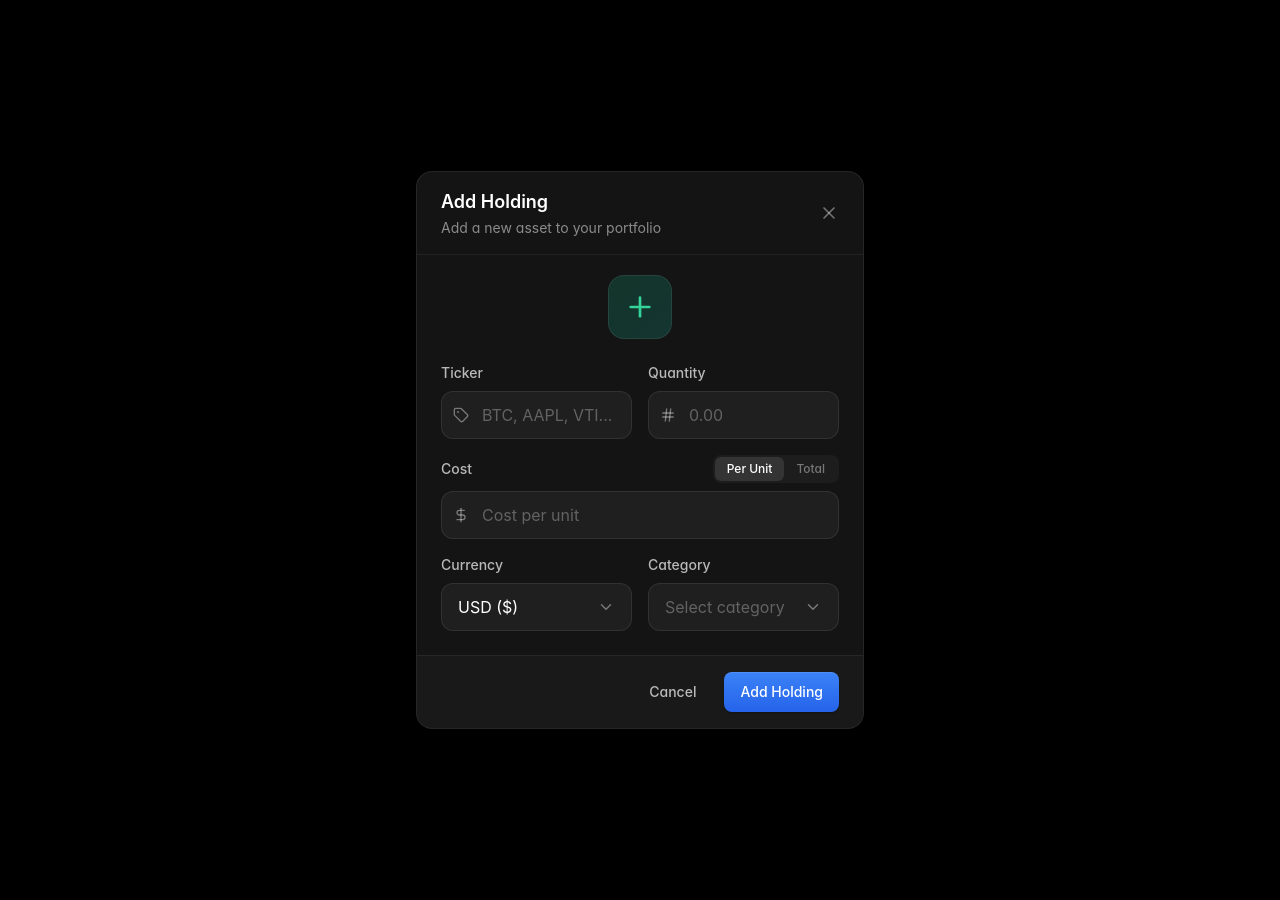
Test: Phase 4: Holdings Management UI › AddHoldingModal Component › should show cost preview when switching cost type
This screenshot has width=1280, height=900.
// Fill quantity and cost
Step 1. Type "10" into the number field labelled "Quantity" → x=744, y=415, box 648,391 -> 839,439
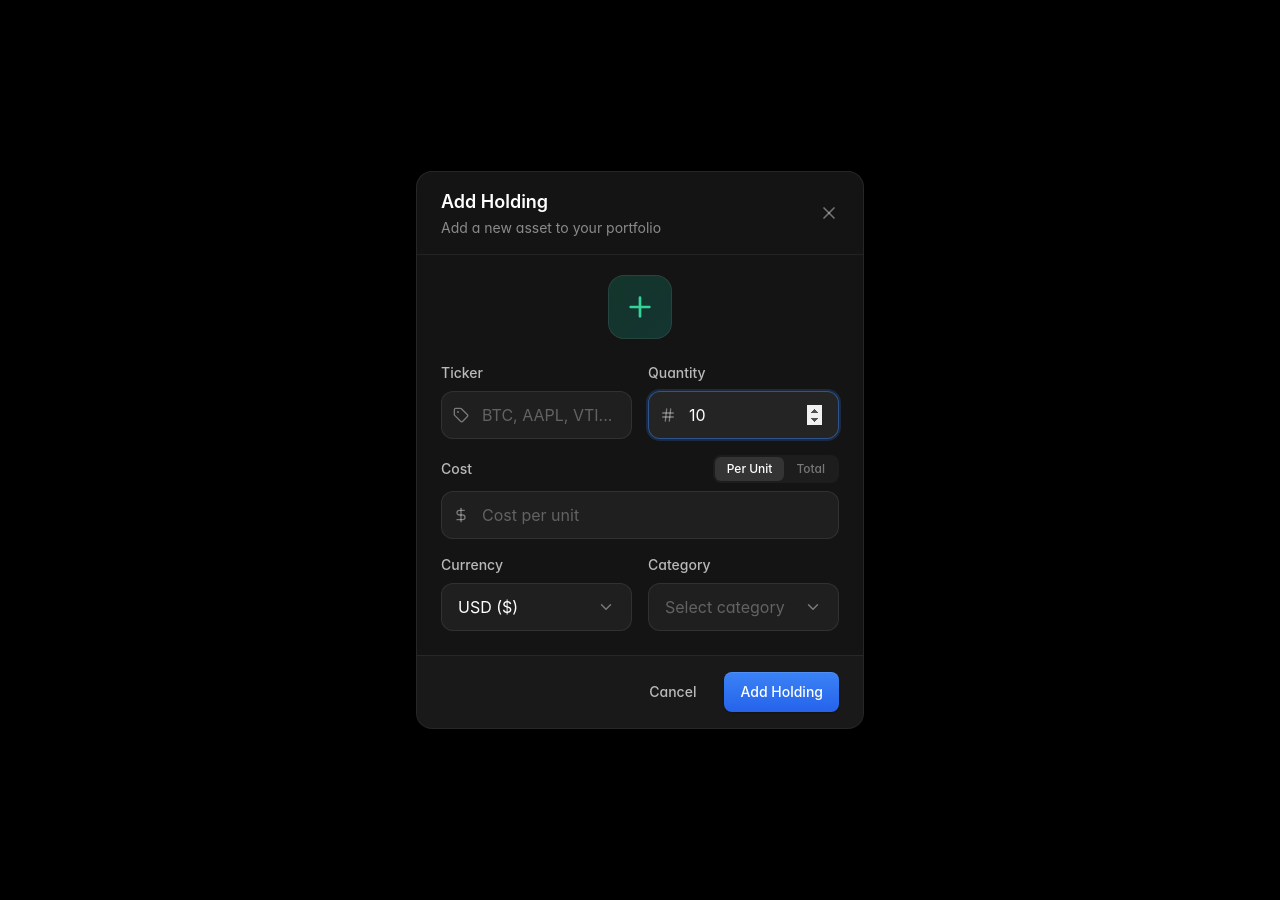
Step 2. Type "100" into the number field with placeholder "Cost per unit" → x=640, y=515, box 441,491 -> 839,539
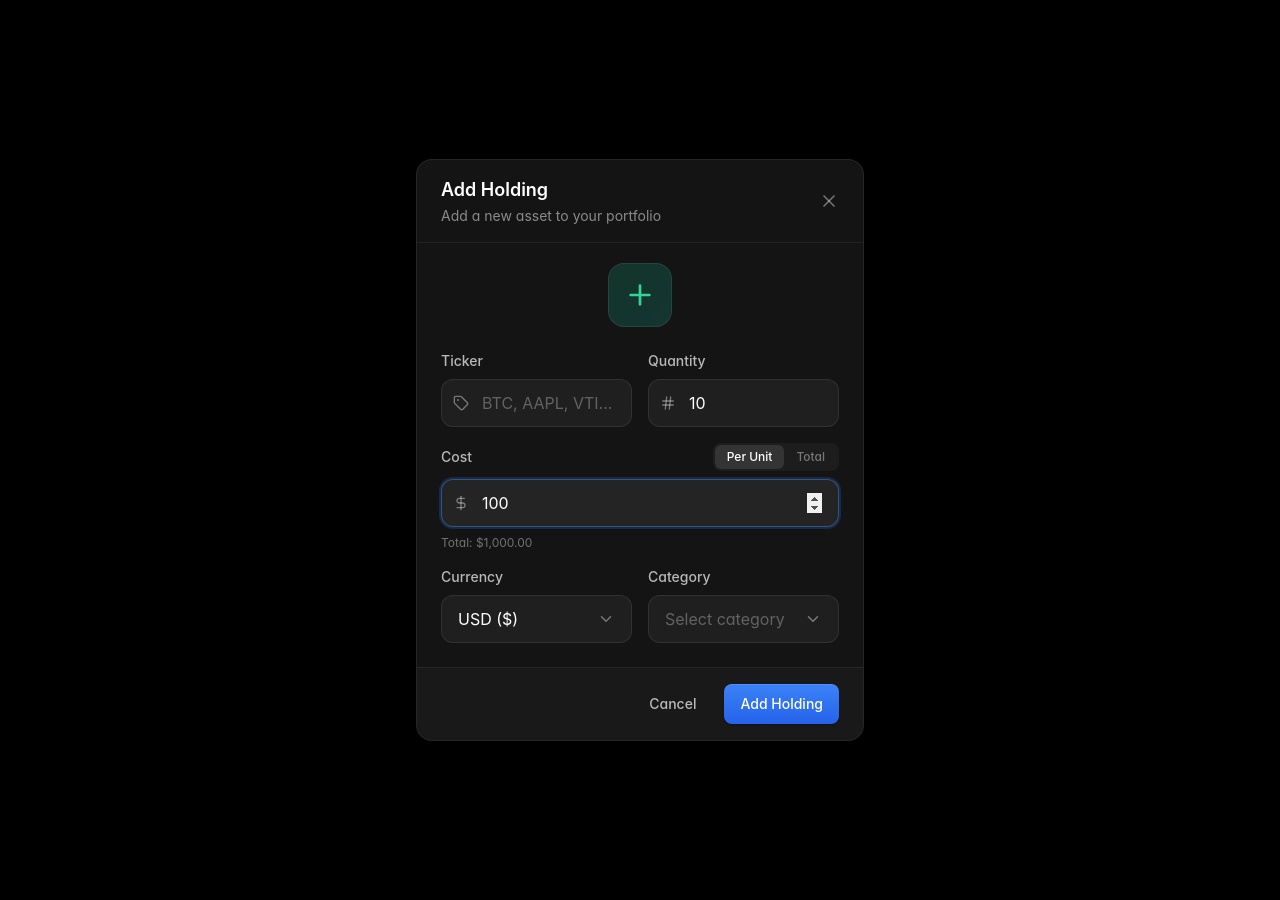
expect the text "Total: $1,000.00" is shown: met, box 441,535 -> 532,550
